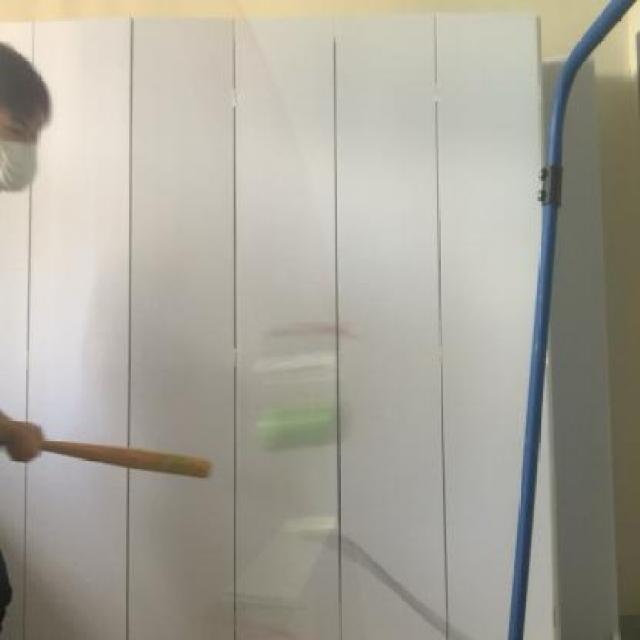baseball: (236, 378, 359, 460)
